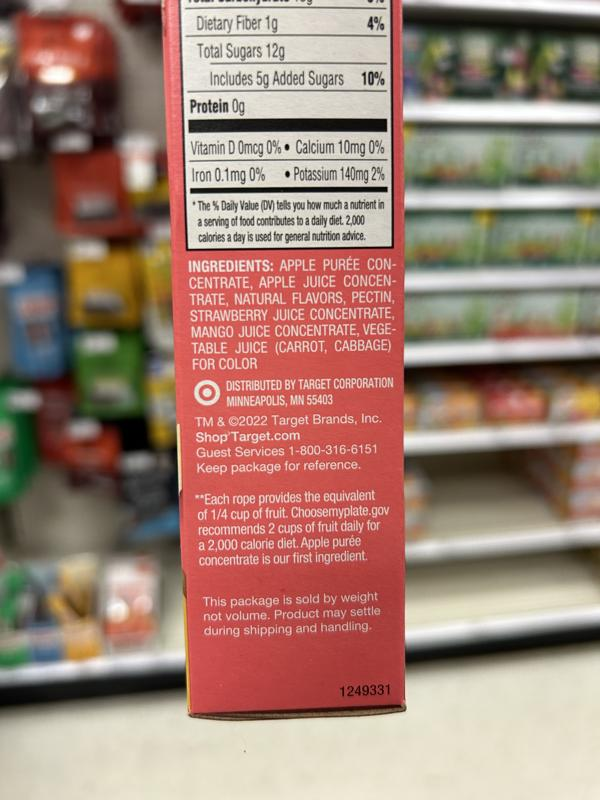ingredients: (185, 256, 397, 372)
